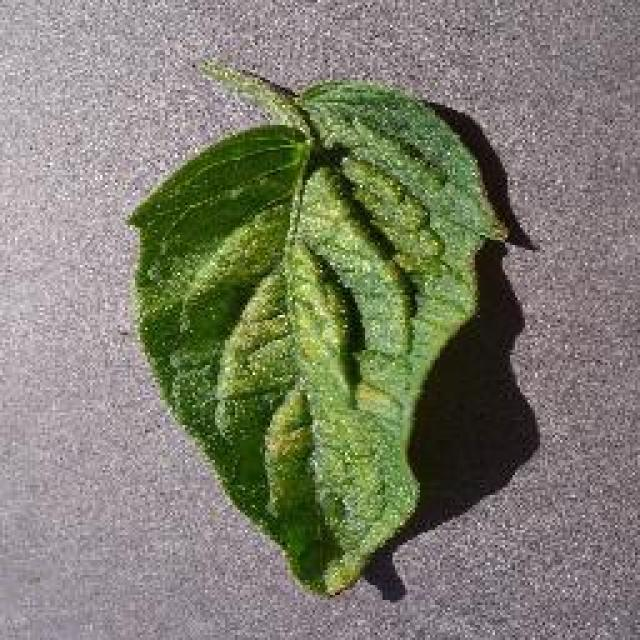Tomato___Spider_mites Two-spotted_spider_mite: (130, 62, 508, 592)
